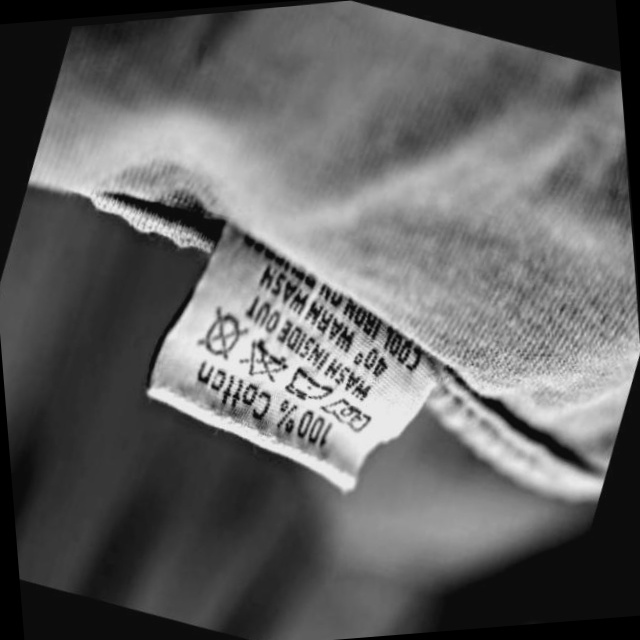40C: (319, 394, 370, 436)
DN_bleach: (241, 336, 289, 385)
DN_dry_clean: (191, 306, 245, 365)
iron_low: (280, 360, 331, 409)
